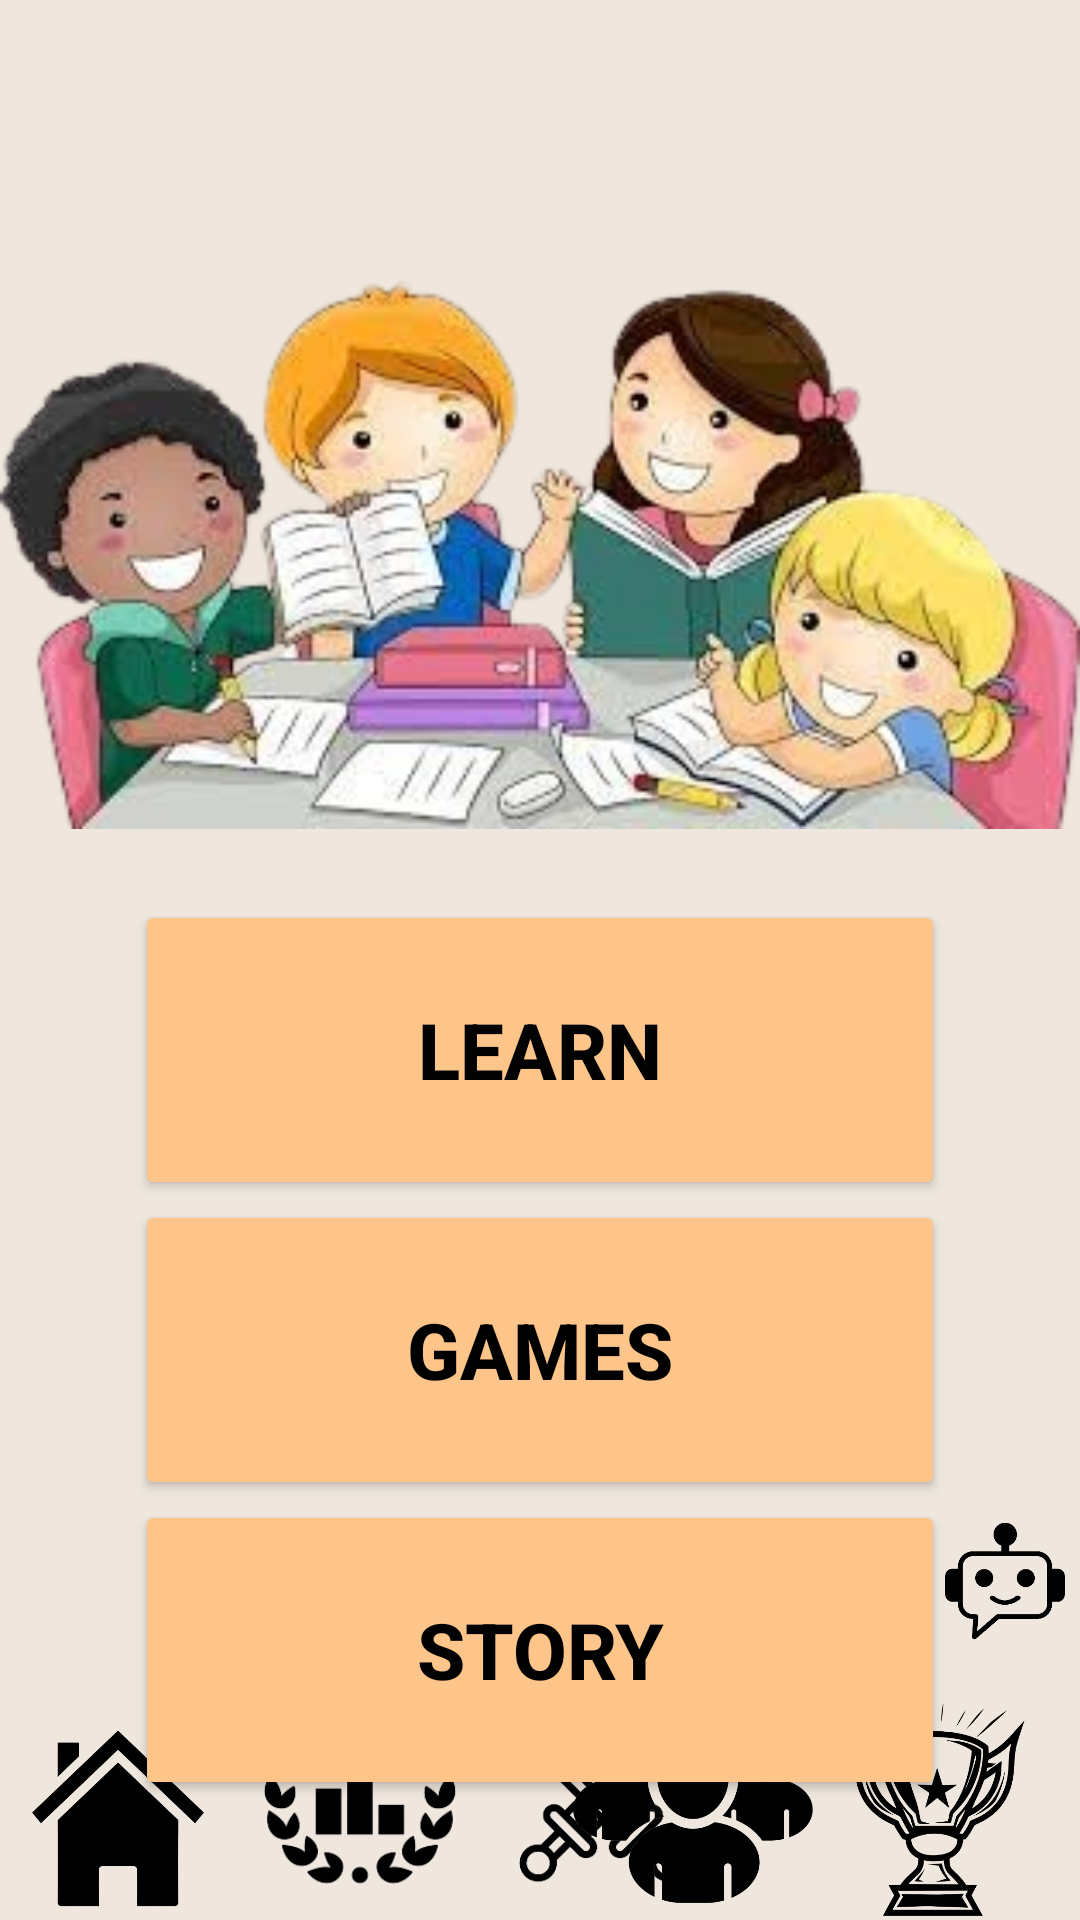

Where to tap for icons on this 1080x1920 app screen, as [x,y]:
chatbot: [1005,1581]
